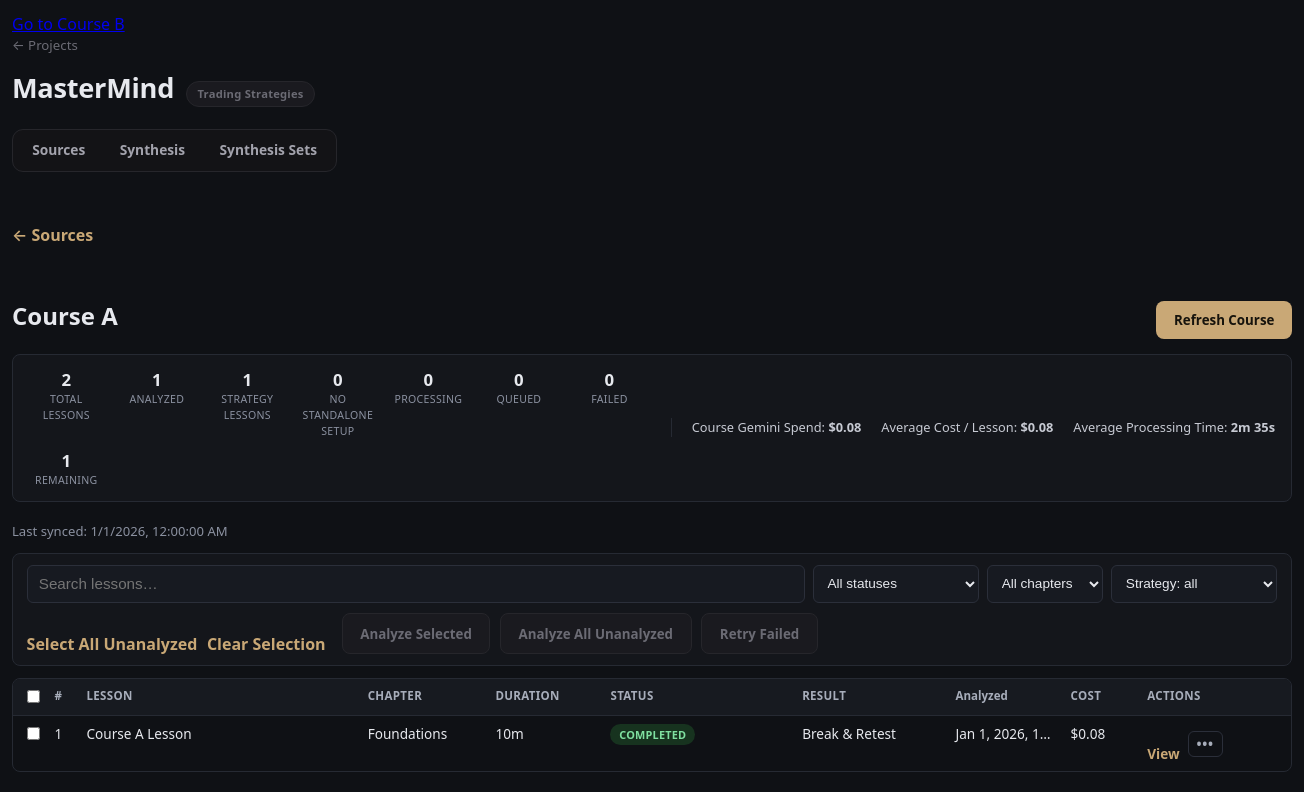
Test case: WhopCourseDetailPage — rich course management UI (Phase 4K follow-up) › 4: navigating from Course A directly to Course B (same mounted page) never keeps showing Course A's lessons
Expected: the text "Course A Lesson" is shown, [86,724,192,743]
What coordinates should you click on to do the following:
click the link "Go to Course B"
I would click on:
 (68, 24)
Its box is [12,13,125,35].
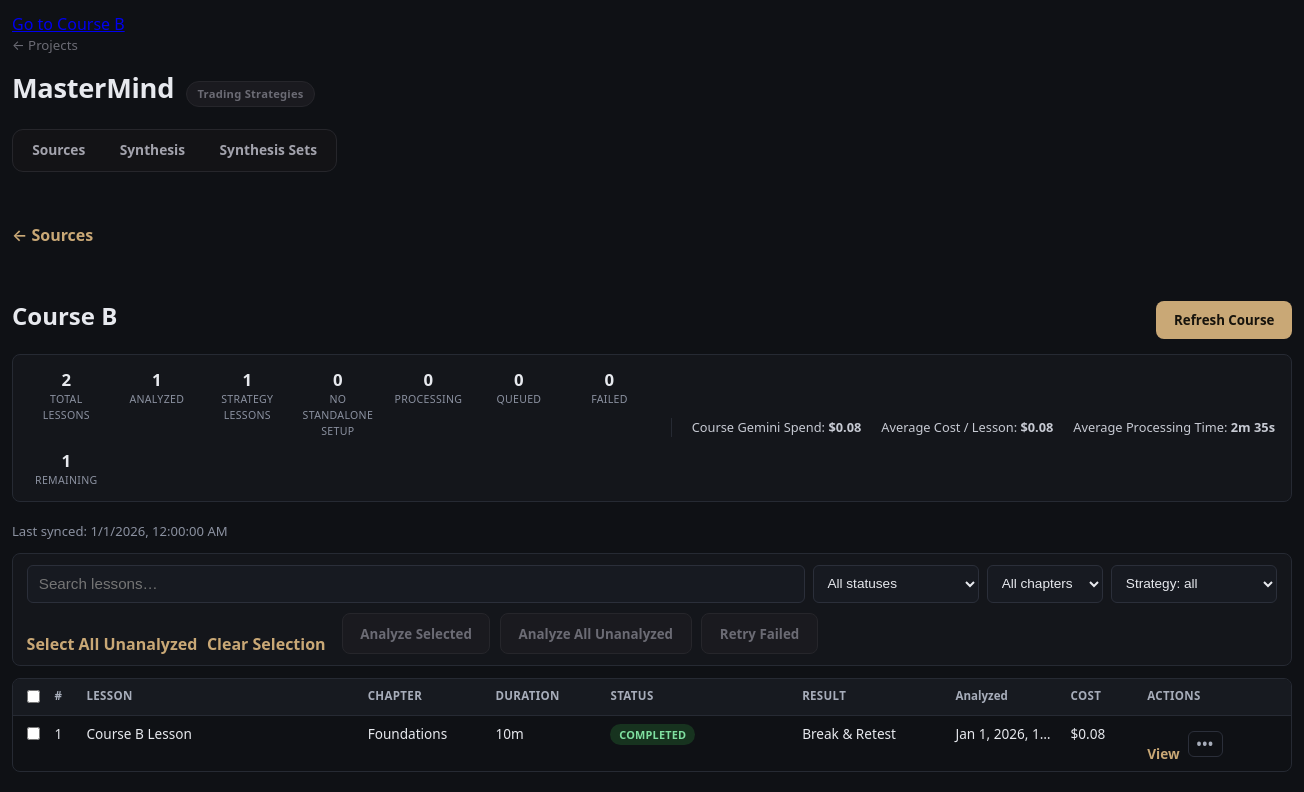
Now the text "Course A Lesson" is gone
Now the text "Course B Lesson" is shown, box [86,724,192,743]
